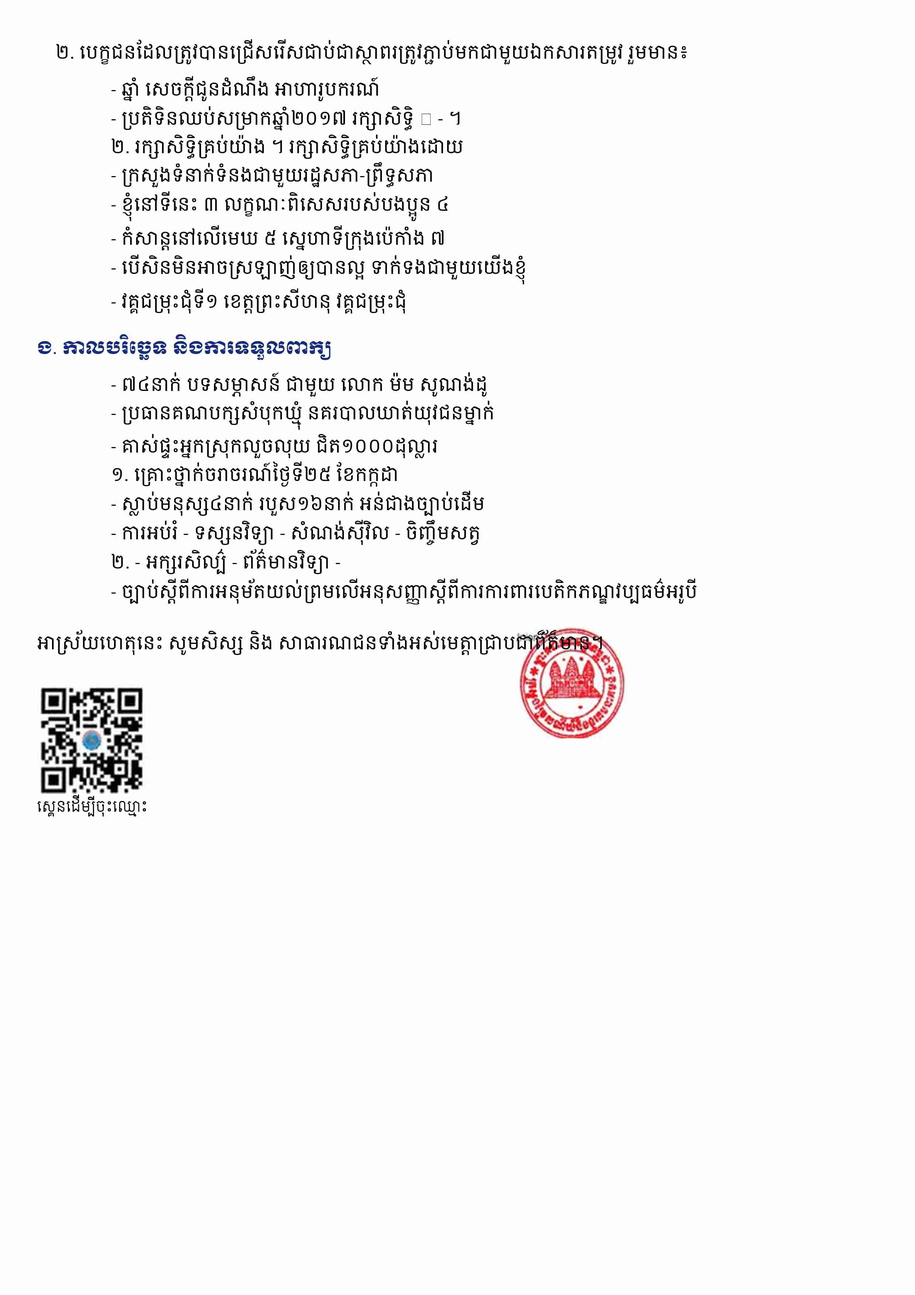decorative: (37, 683, 148, 794), (517, 628, 627, 738)
text: (55, 39, 689, 65), (111, 578, 697, 605), (37, 630, 604, 655), (111, 254, 527, 285), (111, 401, 495, 430), (111, 191, 449, 221), (111, 372, 488, 397), (111, 491, 485, 516), (111, 520, 481, 545), (111, 134, 464, 159), (111, 106, 462, 131), (111, 225, 446, 251), (111, 162, 434, 188), (111, 434, 438, 458), (111, 288, 407, 314), (37, 334, 331, 360), (111, 461, 399, 487), (111, 76, 380, 102), (111, 549, 341, 574), (37, 794, 148, 817)
